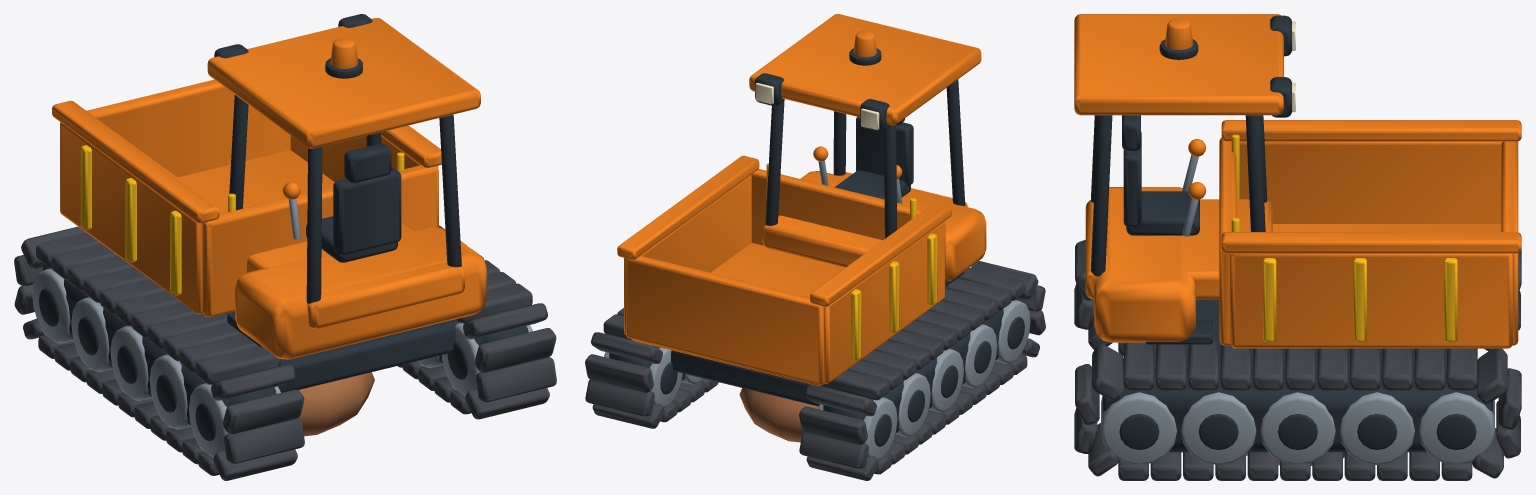
Rendered from dumper.glb.
3 views of the same model, side by side, from view 1: azimuth 30°, elevation 25°; view 2: azimuth 150°, elevation 25°; view 3: azimuth 270°, elevation 25° (orthographic). The views are drawn at different scales.
Parts seen in each view (by area): view 1: end wall, cab sill.001, headlight housing.002, hub.010, track roller.010, material load.001, side rib, tread.103, tread.073, tread.102, tread.072, tread.070 (+17 smaller); view 2: end wall, cab sill.001, headlight housing.002, hub.010, track roller.010, side rib, material load.001, tread.088, tread.118, tread.117, tread.087, tread.089 (+17 smaller); view 3: end wall, cab sill.001, track roller.010, hub.010, headlight housing.002, side rib, tread.101, tread.100, tread.119, tread.098, tread.099, tread.097 (+29 smaller).
Part boxes in pixels (x1,y1,x2,y2): end wall: [52, 79, 441, 317]; cab sill.001: [207, 18, 486, 359]; headlight housing.002: [214, 14, 461, 346]; hub.010: [39, 266, 528, 441]; track roller.010: [32, 268, 532, 457]; material load.001: [297, 372, 374, 436]; side rib: [80, 145, 181, 295]; tread.103: [476, 357, 556, 402]; tread.073: [224, 418, 304, 463]; tread.102: [474, 328, 556, 372]; tread.072: [222, 389, 304, 433]; tread.070: [195, 346, 280, 384]; end wall: [617, 155, 951, 385]; cab sill.001: [749, 14, 986, 281]; headlight housing.002: [755, 73, 965, 286]; hub.010: [609, 297, 1024, 446]; track roller.010: [604, 300, 1030, 459]; side rib: [851, 233, 937, 360]; material load.001: [739, 388, 818, 442]; tread.088: [799, 406, 867, 444]; tread.118: [585, 354, 653, 392]; tread.117: [585, 379, 654, 416]; tread.087: [799, 431, 868, 468]; tread.089: [805, 384, 876, 416]; end wall: [1219, 120, 1521, 348]; cab sill.001: [1074, 14, 1283, 342]; track roller.010: [1101, 392, 1494, 465]; hub.010: [1102, 299, 1493, 452]; headlight housing.002: [1090, 15, 1291, 344]; side rib: [1263, 258, 1457, 341]; tread.101: [1092, 344, 1123, 401]; tread.100: [1123, 342, 1154, 390]; tread.119: [1477, 348, 1507, 404]; tread.098: [1188, 341, 1218, 390]; tread.099: [1156, 344, 1186, 390]; tread.097: [1220, 345, 1251, 390].
Size of the model in its own units: 3.36 by 4.2 by 3.95.
